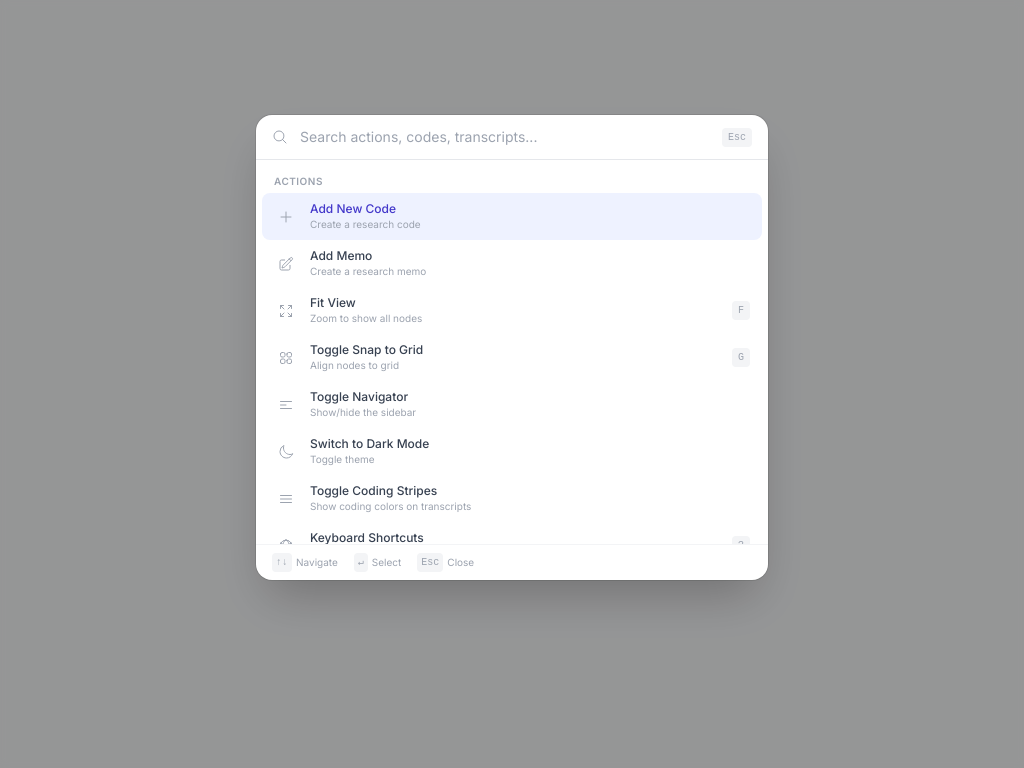
Scenario: CommandPalette › search filters actions by name
This screenshot has width=1024, height=768.
In the field with placeholder "Search actions, codes, transcripts...": (505, 137) left=300, top=127, right=710, bottom=147, type "Fit View"
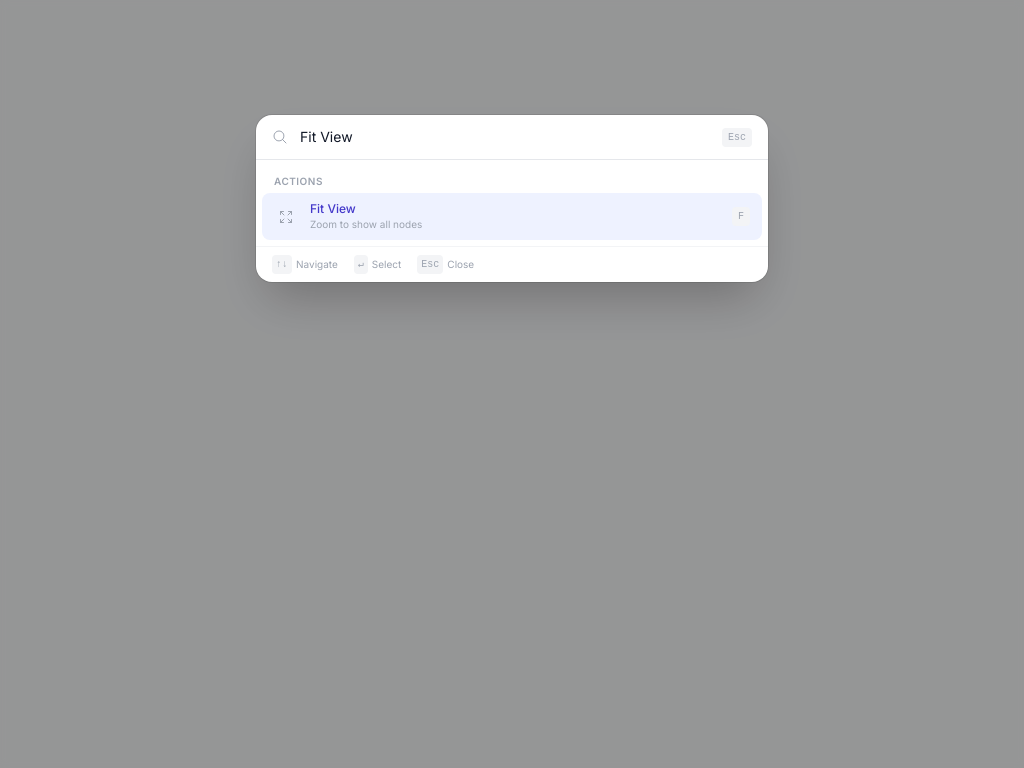
Expected: the text "Fit View" is shown, left=310, top=201, right=356, bottom=216
Result: the button "Add New Code" is gone
